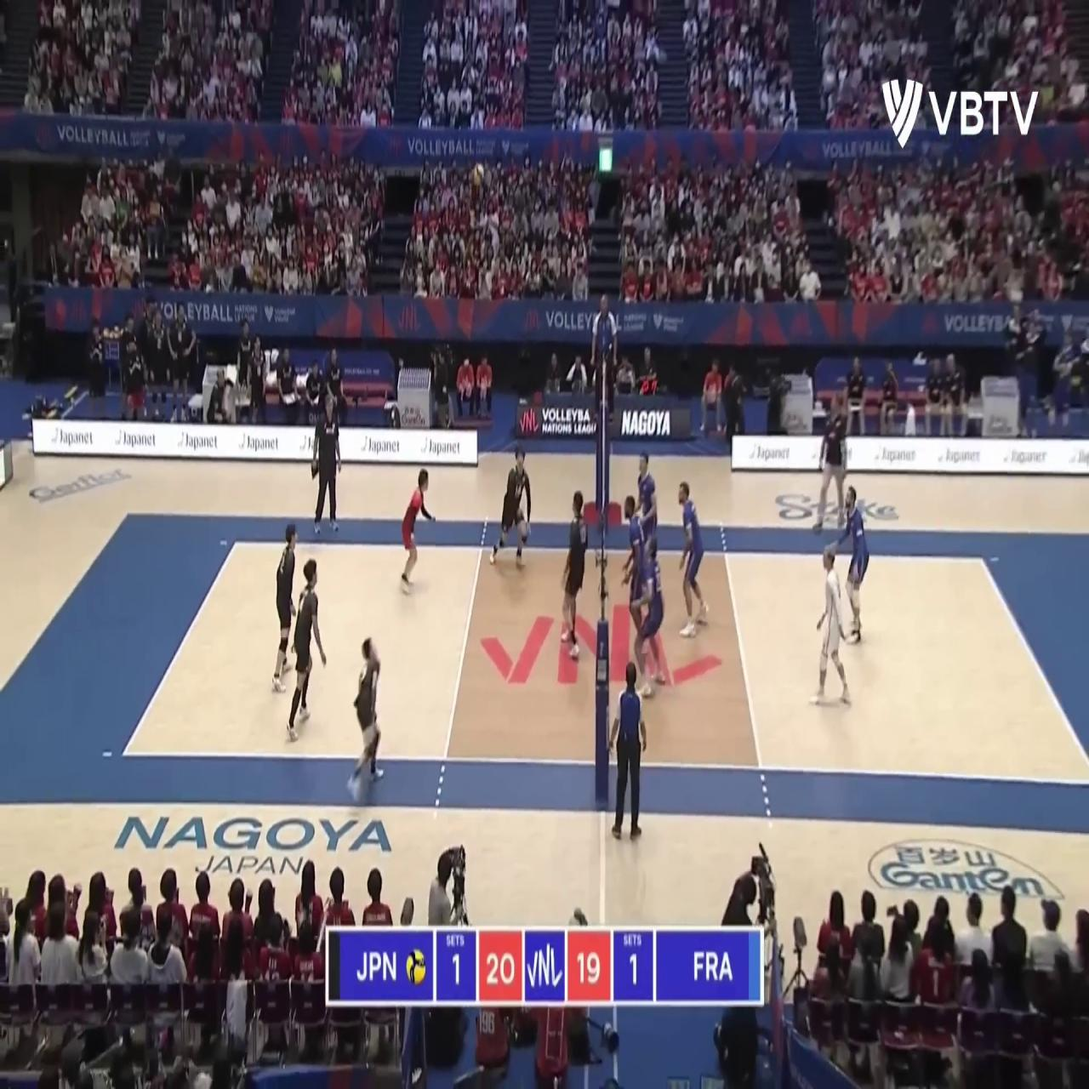ball: (473, 163, 486, 187)
